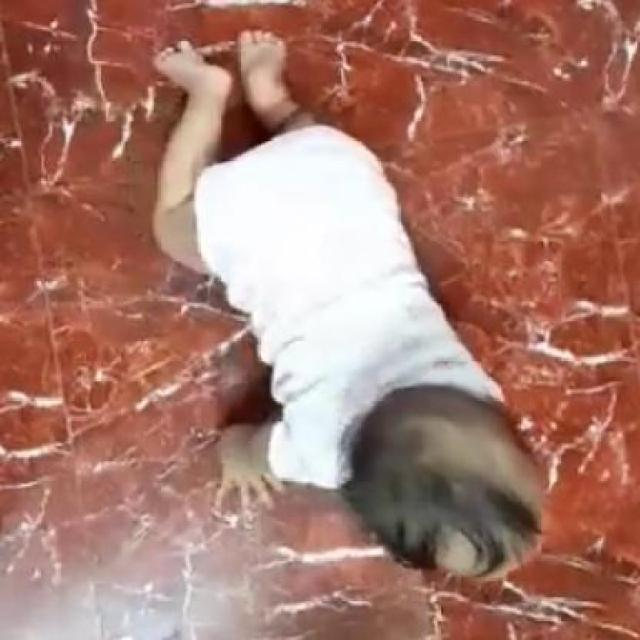baby: (150, 32, 544, 582)
